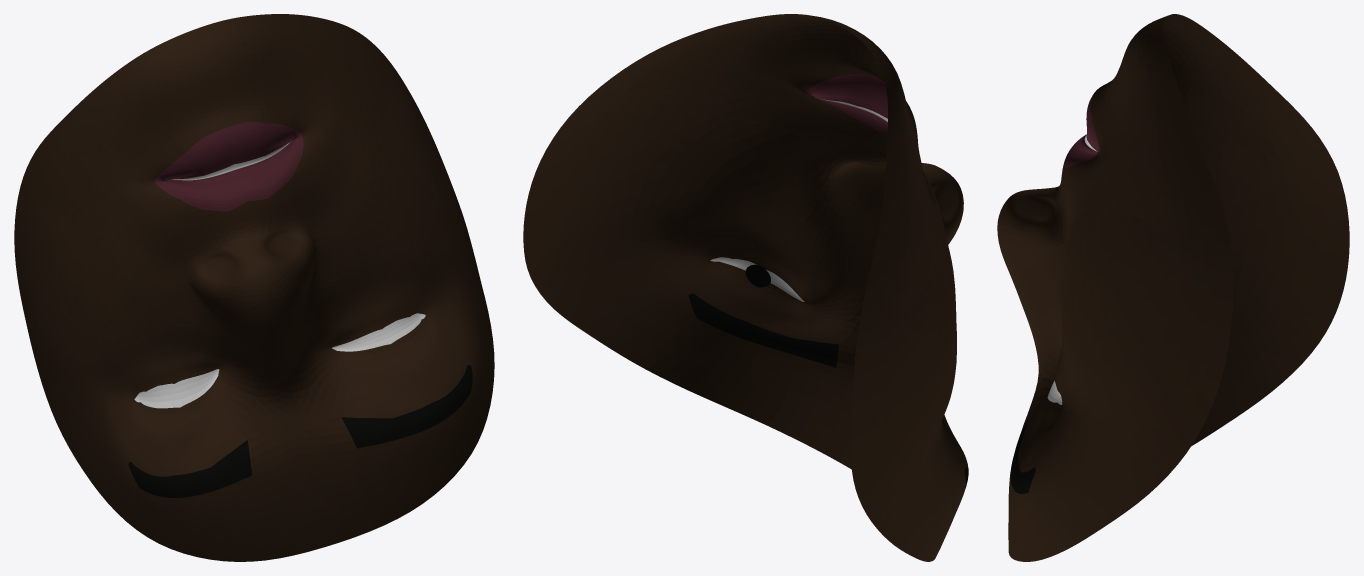
Rendered from VID-20250515-WA0006_f_00917.obj.
3 views of the same model, side by side, from view 1: azimuth 30°, elevation 25°; view 2: azimuth 150°, elevation 25°; view 3: azimuth 270°, elevation 25° (orthographic). The views are drawn at different scales.
Parts seen in each view (by area): view 1: face_mesh_subdivided; view 2: face_mesh_subdivided; view 3: face_mesh_subdivided.
Part boxes in pixels (x1,y1,x2,y2): face_mesh_subdivided: (14,14,494,561); face_mesh_subdivided: (523,14,968,561); face_mesh_subdivided: (997,14,1349,561).
Size of the model in its own units: 0.4326 by 0.5178 by 0.3274.
